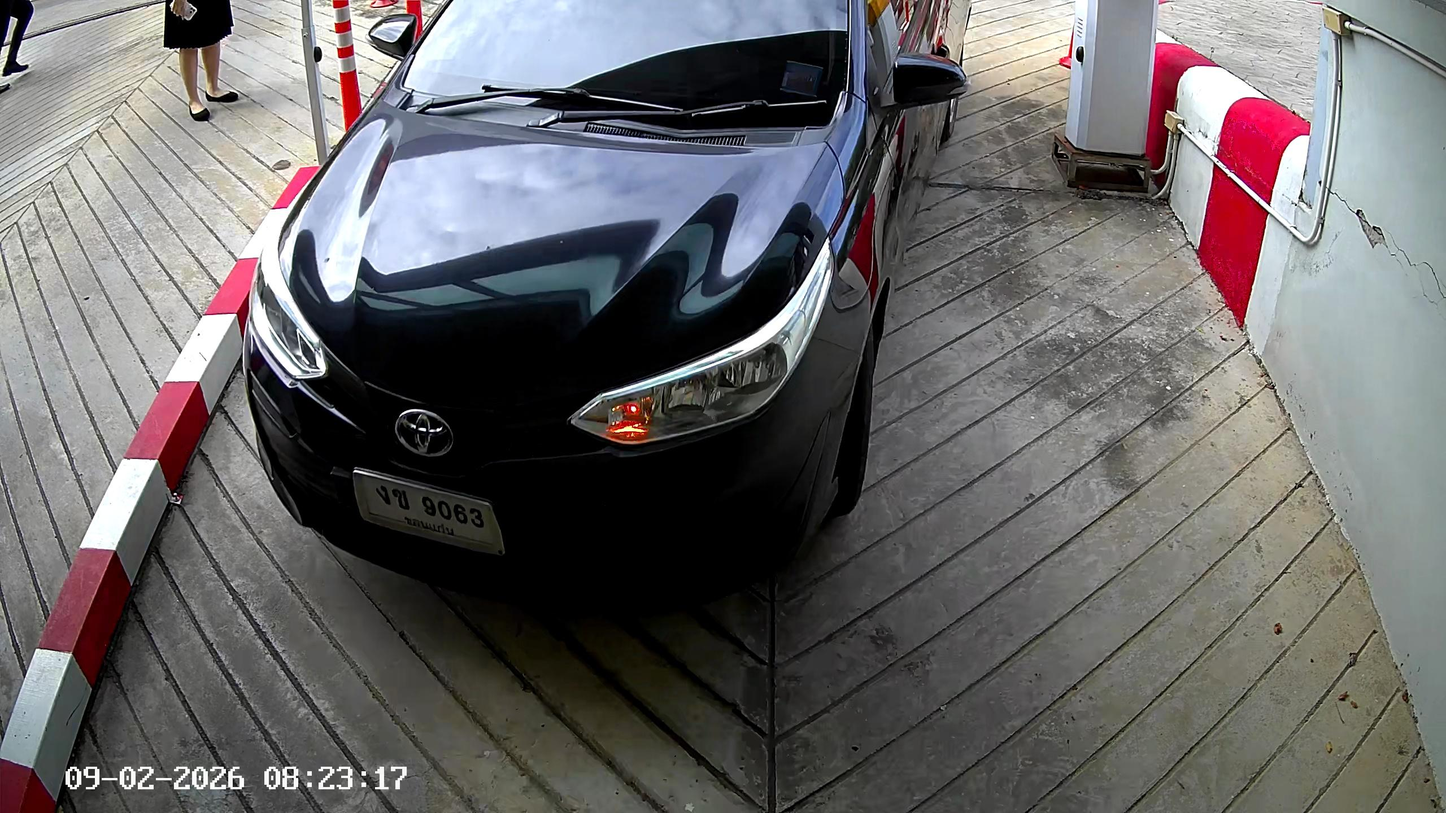car: (239, 2, 968, 584)
license-plate: (348, 461, 508, 561)
